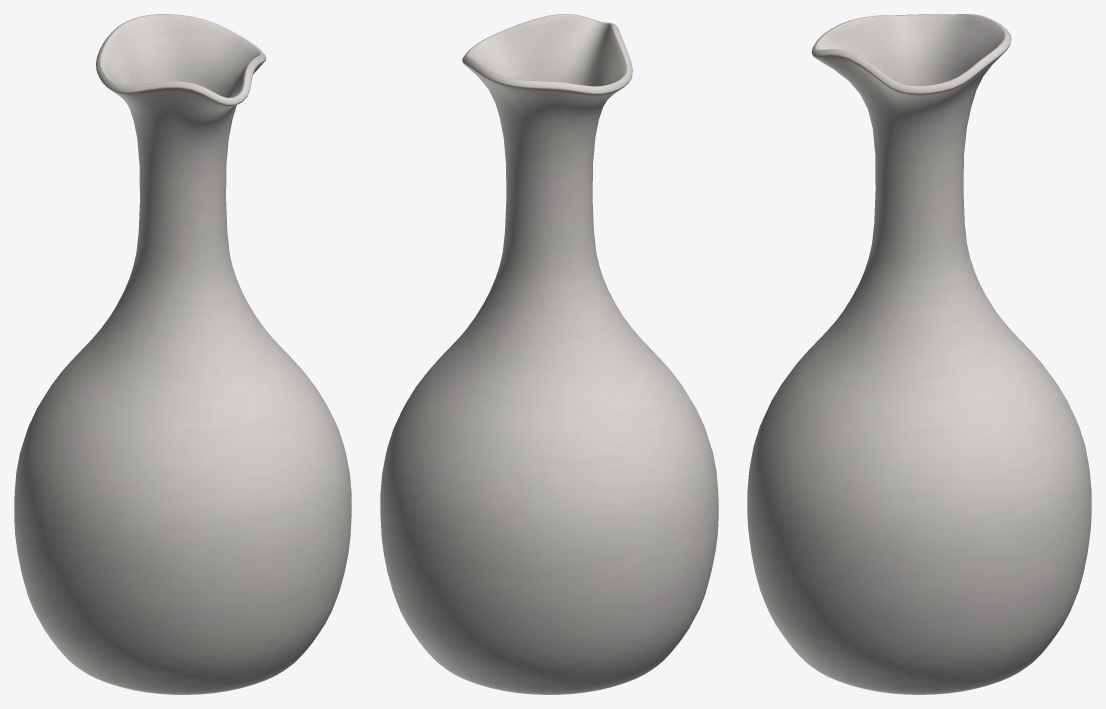
The model's file is ceramic_vase_01.glb.
The picture shows the model from 3 angles, left to right: view 1: azimuth 30°, elevation 25°; view 2: azimuth 150°, elevation 25°; view 3: azimuth 270°, elevation 25°; orthographic projection. The views are drawn at different scales.
Visible parts, largest first — view 1: ceramic_vase_01; view 2: ceramic_vase_01; view 3: ceramic_vase_01.
Part boxes in pixels (x1=…): ceramic_vase_01: x1=14, y1=14, x2=351, y2=694; ceramic_vase_01: x1=380, y1=14, x2=718, y2=694; ceramic_vase_01: x1=747, y1=14, x2=1091, y2=694.
Size of the model in its own units: 0.2036 by 0.4003 by 0.2036.
Materials: 1 (1 with a texture image).
